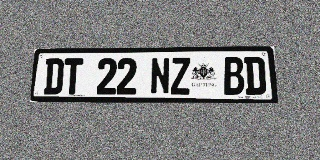2: (97, 58, 117, 95), (117, 58, 137, 95)
B: (223, 57, 245, 95)
D: (244, 57, 267, 95), (43, 58, 64, 94)
N: (150, 57, 170, 95)
T: (63, 58, 83, 94)
Z: (171, 57, 191, 95)
